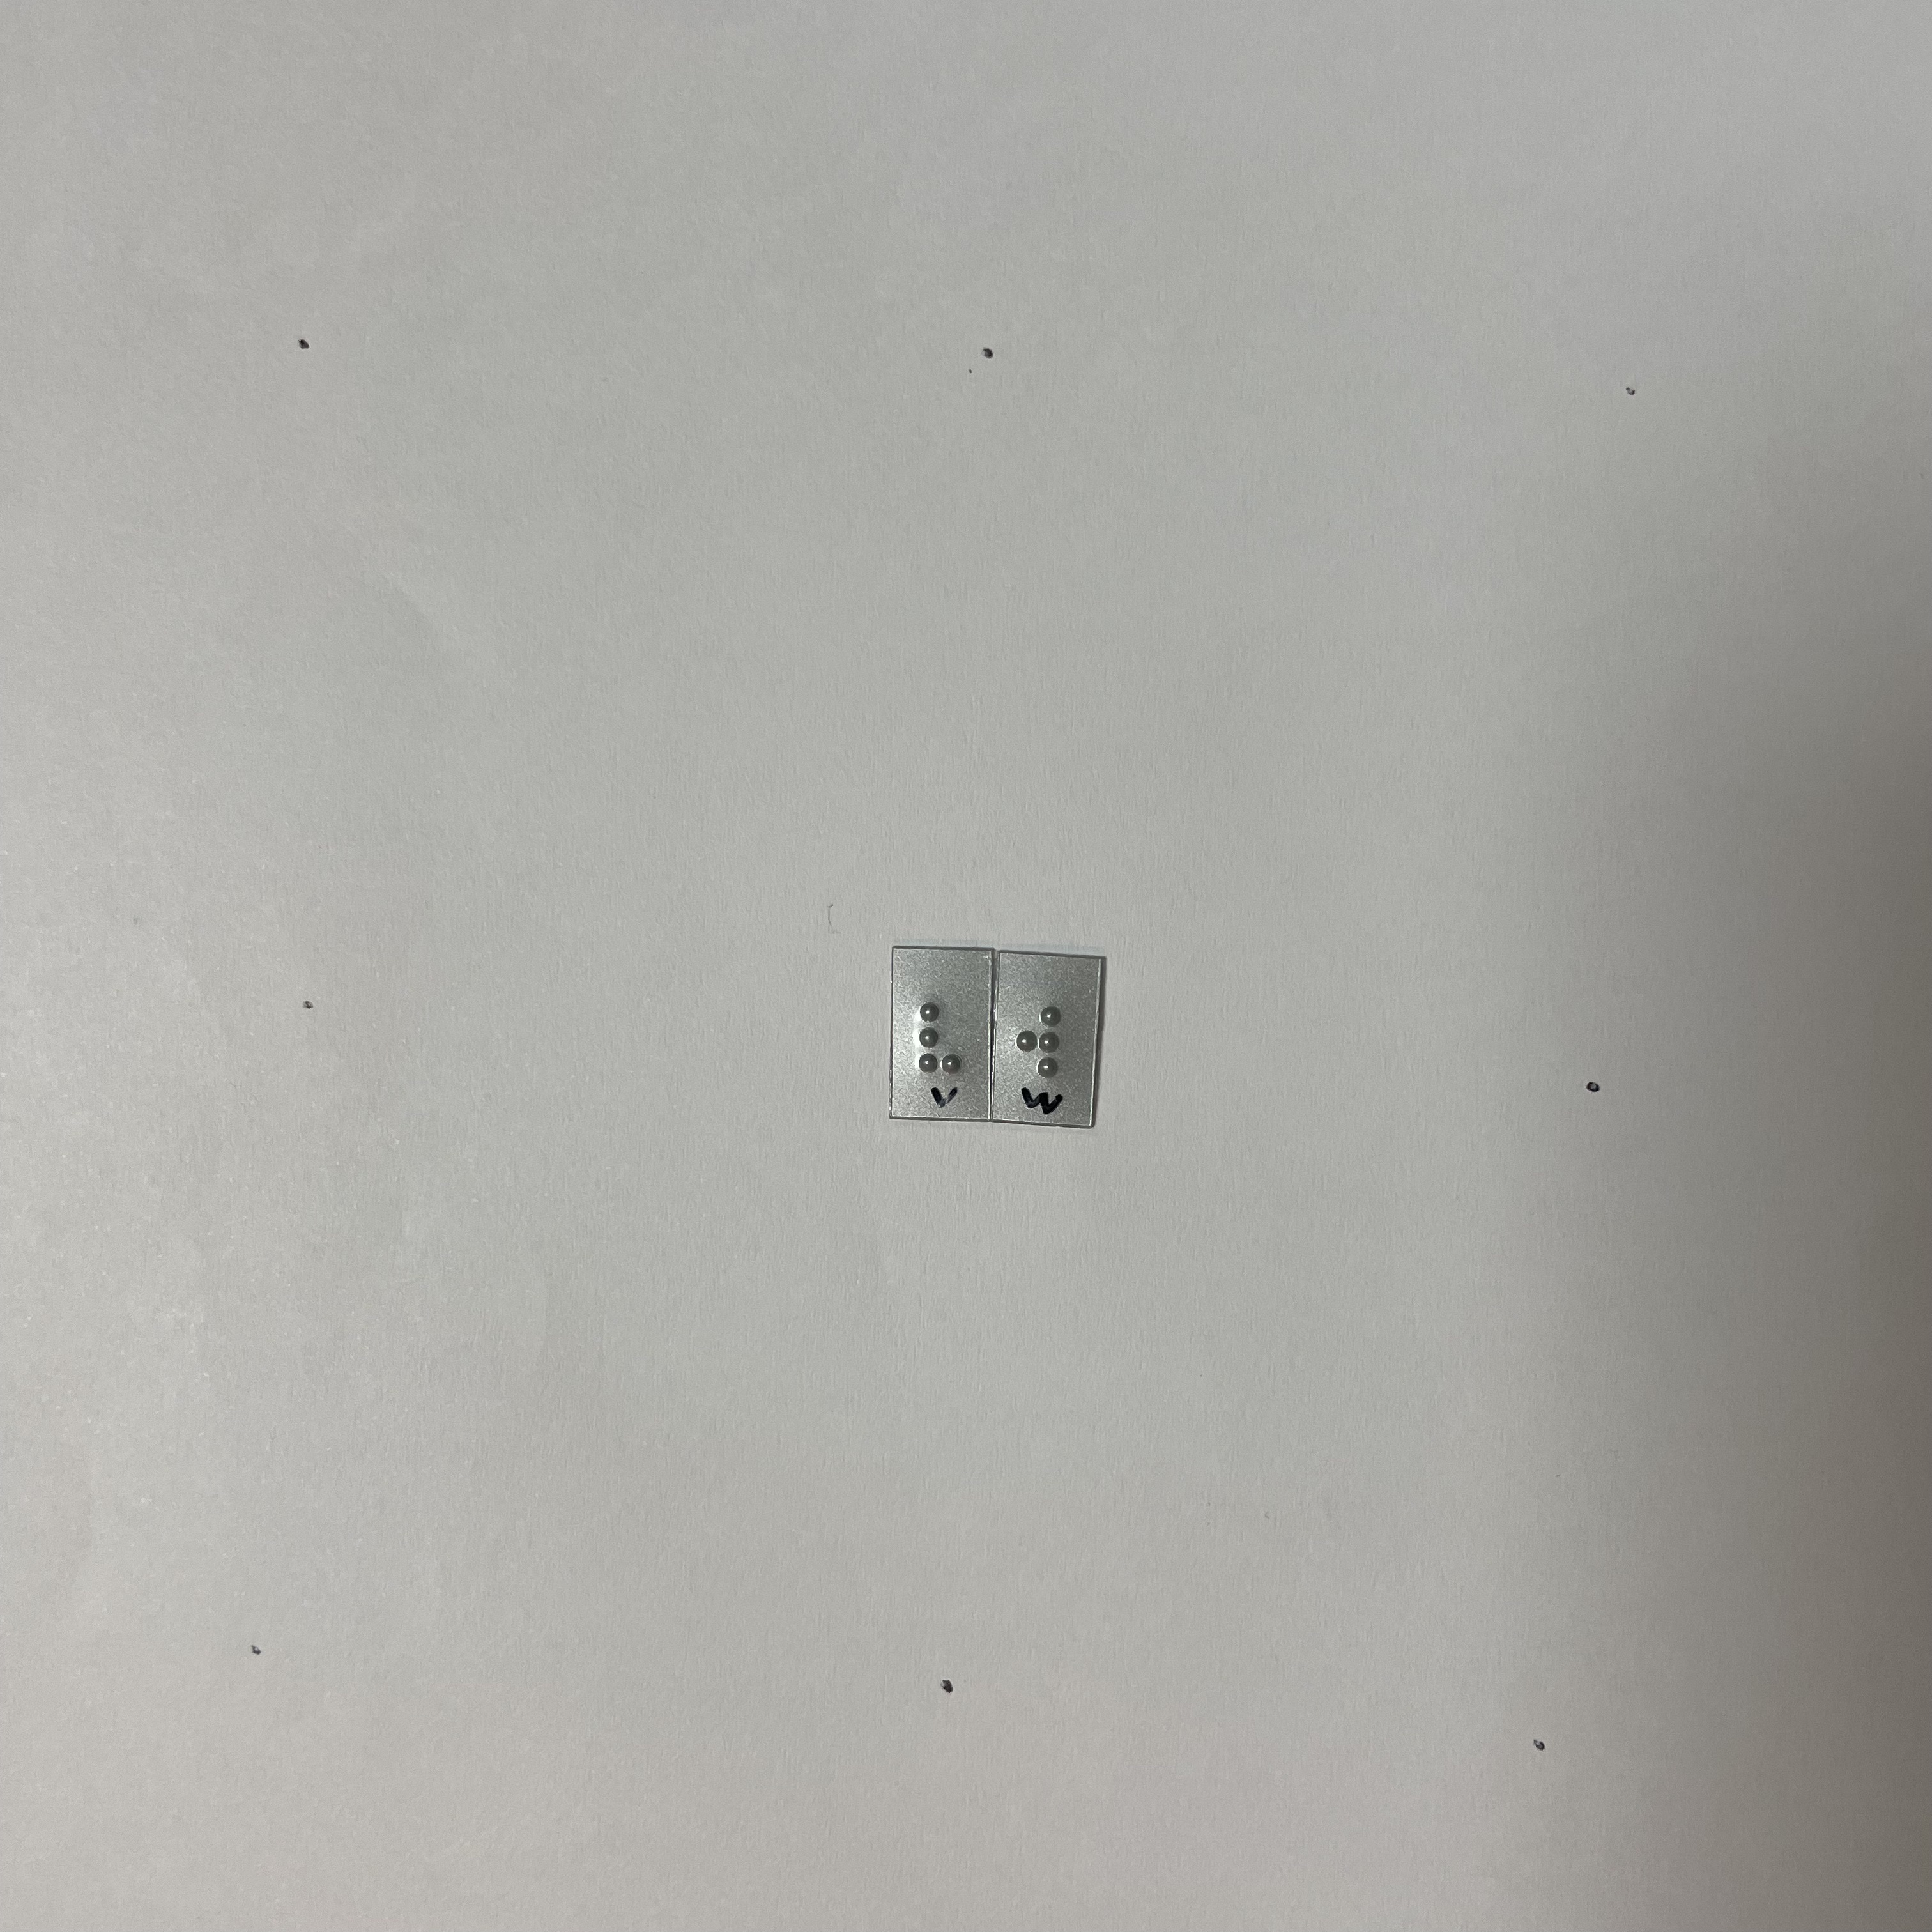v: (907, 987, 973, 1079)
w: (1013, 992, 1069, 1089)
